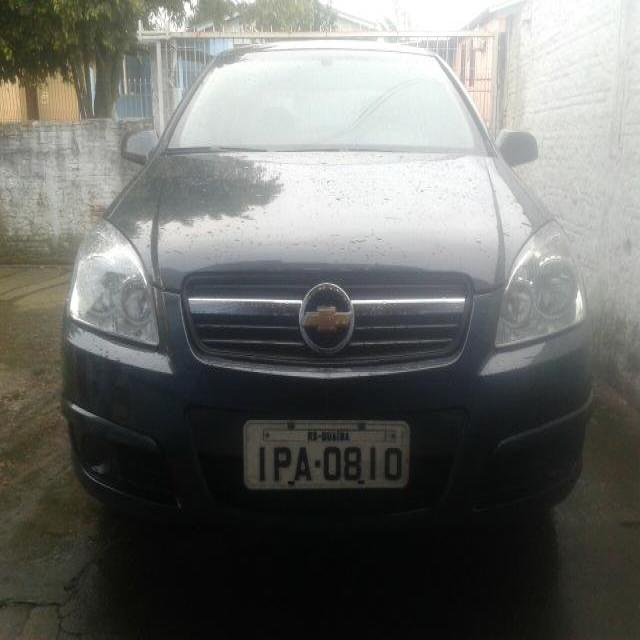Placa: (241, 415, 414, 499)
